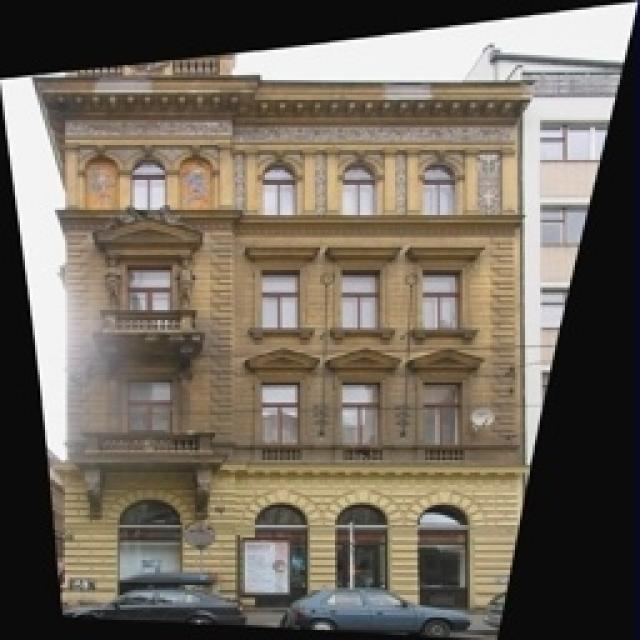building: (35, 12, 533, 640)
